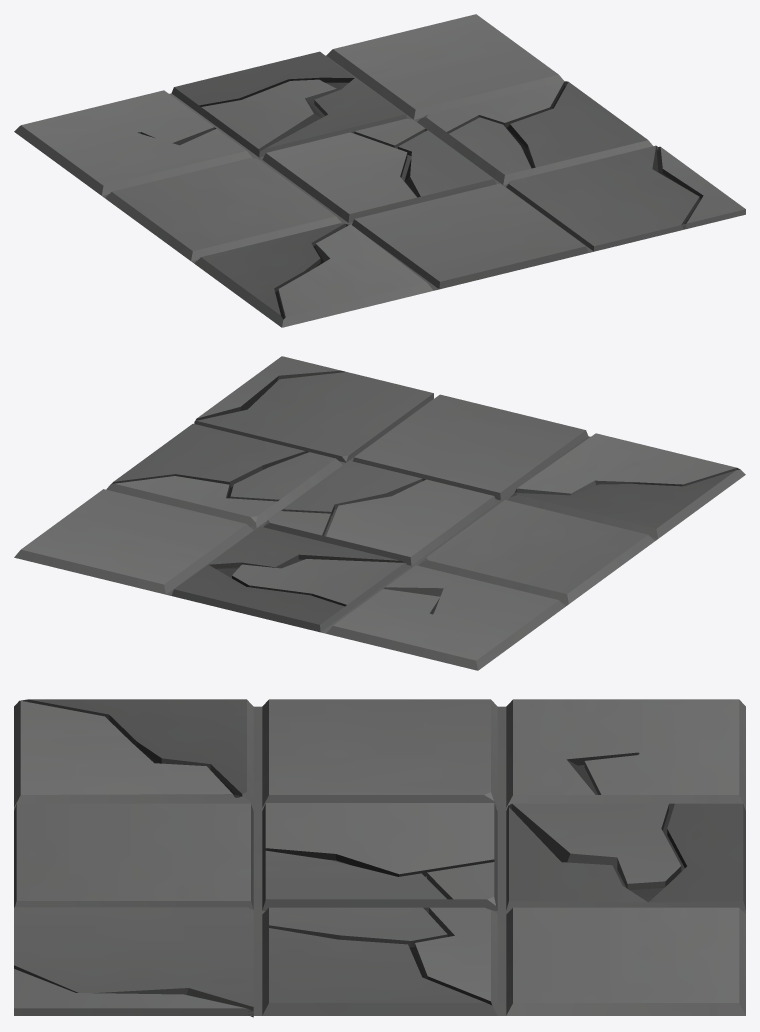
The model's file is Floor_2.fbx.
3 renders of one model, top to bottom at view 1: azimuth 30°, elevation 25°; view 2: azimuth 150°, elevation 25°; view 3: azimuth 270°, elevation 25°, orthographic. The views are drawn at different scales.
Parts seen in each view (by area): view 1: Floor 2; view 2: Floor 2; view 3: Floor 2.
Part boxes in pixels (<box>): Floor 2: <box>14,14,745,327</box>; Floor 2: <box>14,356,745,670</box>; Floor 2: <box>14,699,745,1017</box>.
Bounding box in the file's own units: 280 × 6.54 × 280.
